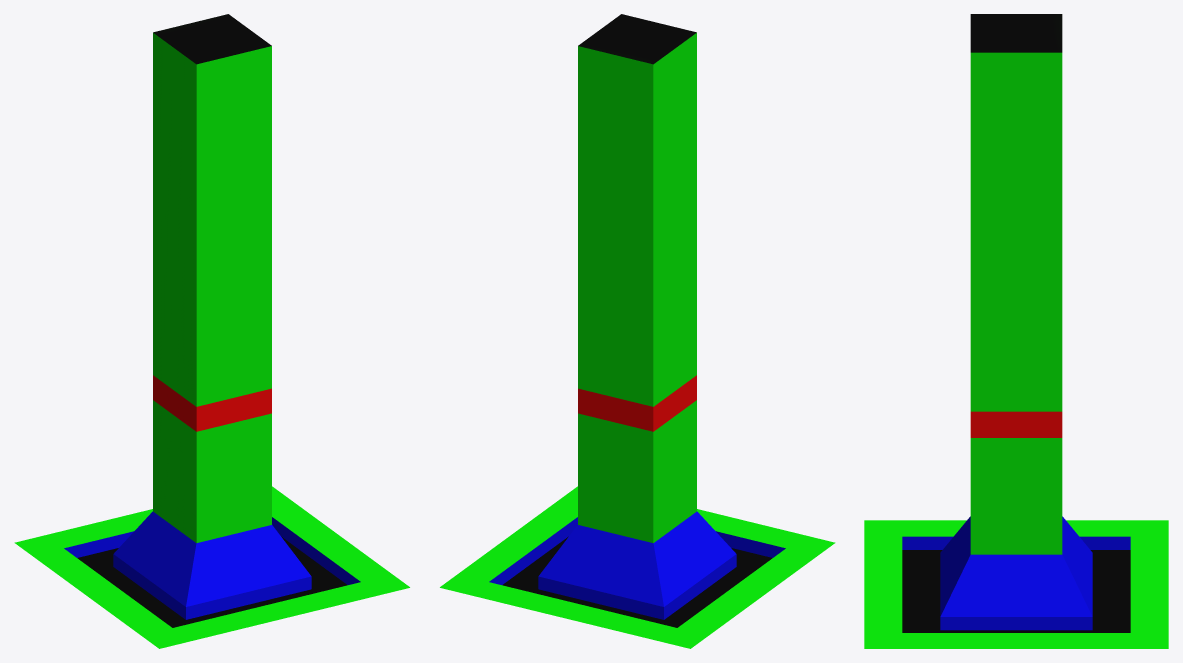
File: Pillar_1x1.fbx
The picture shows the model from 3 angles, left to right: view 1: azimuth 30°, elevation 25°; view 2: azimuth 150°, elevation 25°; view 3: azimuth 270°, elevation 25°; orthographic projection. The views are drawn at different scales.
Visible parts, largest first — view 1: Plane.018; view 2: Plane.018; view 3: Plane.018.
Boxes of the visible parts, x1=… form: Plane.018: x1=14, y1=14, x2=409, y2=648; Plane.018: x1=440, y1=14, x2=835, y2=648; Plane.018: x1=864, y1=14, x2=1168, y2=648.
Size of the model in its own units: 1 by 2.05 by 1.
